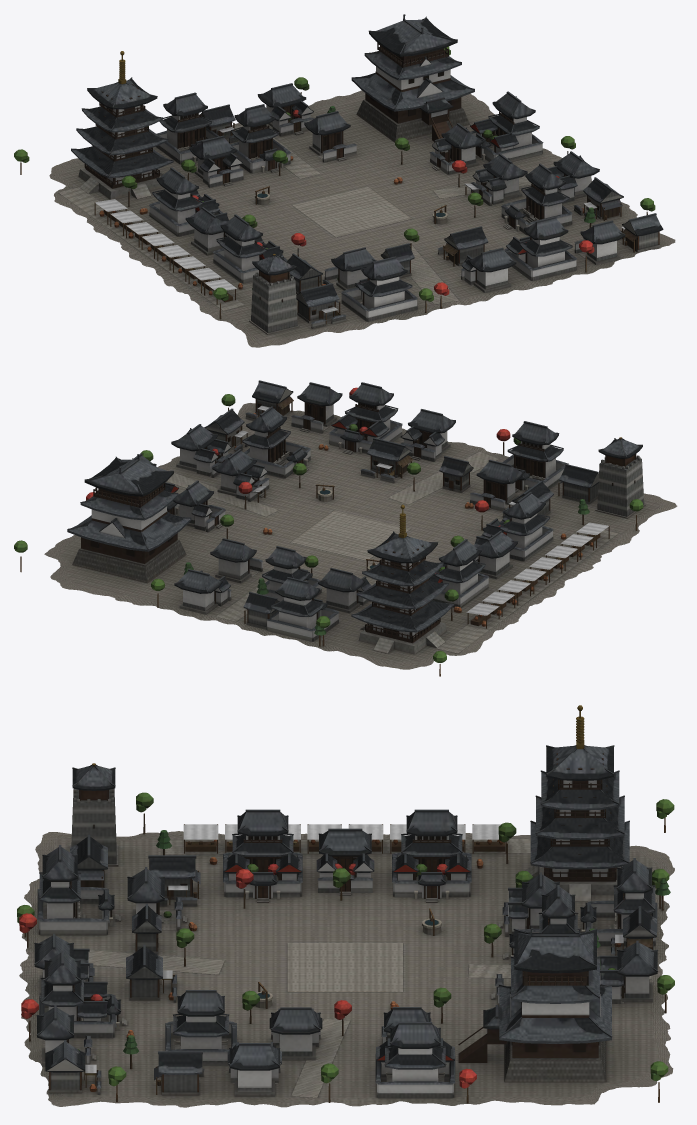
File: kingdoms-town-big-b-japan-6c294d2b.glb
3 renders of one model, top to bottom at view 1: azimuth 30°, elevation 25°; view 2: azimuth 150°, elevation 25°; view 3: azimuth 270°, elevation 25°, orthographic. The views are drawn at different scales.
Parts seen in each view (by area): view 1: LOD0; view 2: LOD0; view 3: LOD0.
Part boxes in pixels (x1,y1,x2,y2): LOD0: (14,14,675,347); LOD0: (14,380,677,676); LOD0: (17,705,674,1107).
Size of what is drawn, in the model's own units: 8.05 by 2.33 by 8.12.
3 materials, 3 textured.
